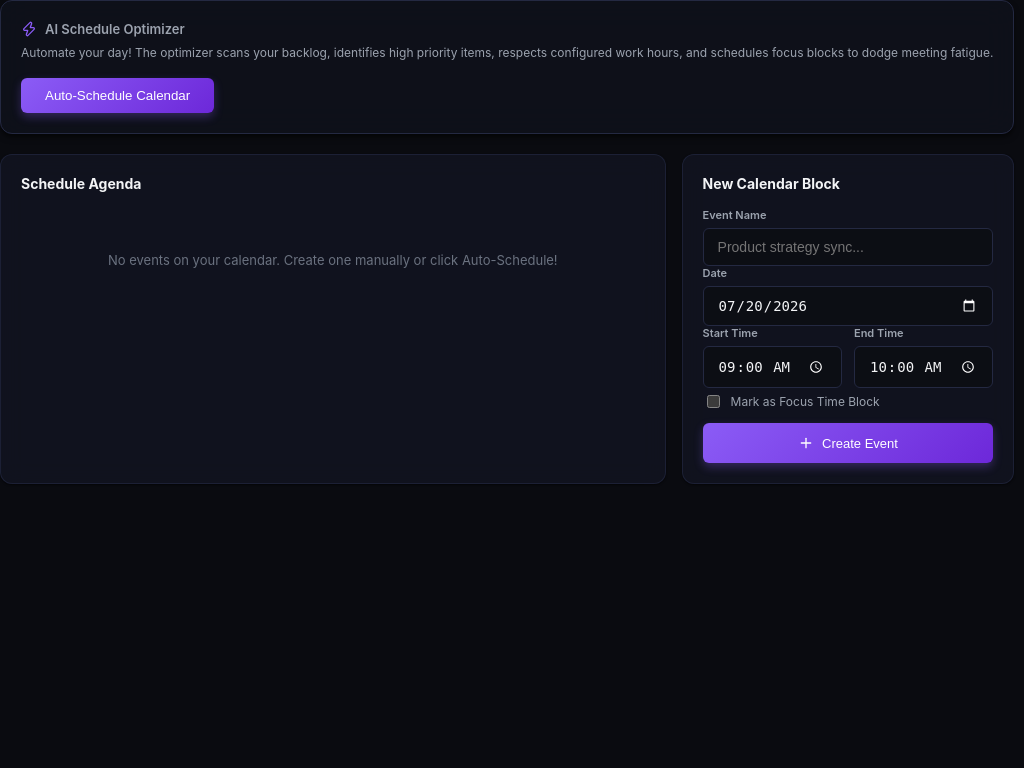
Test: CalendarView › runs AI auto-scheduler successfully and renders execution report
Trigger auto-schedule
Click the button "Auto-Schedule Calendar": (118, 95) [21, 78, 214, 113]
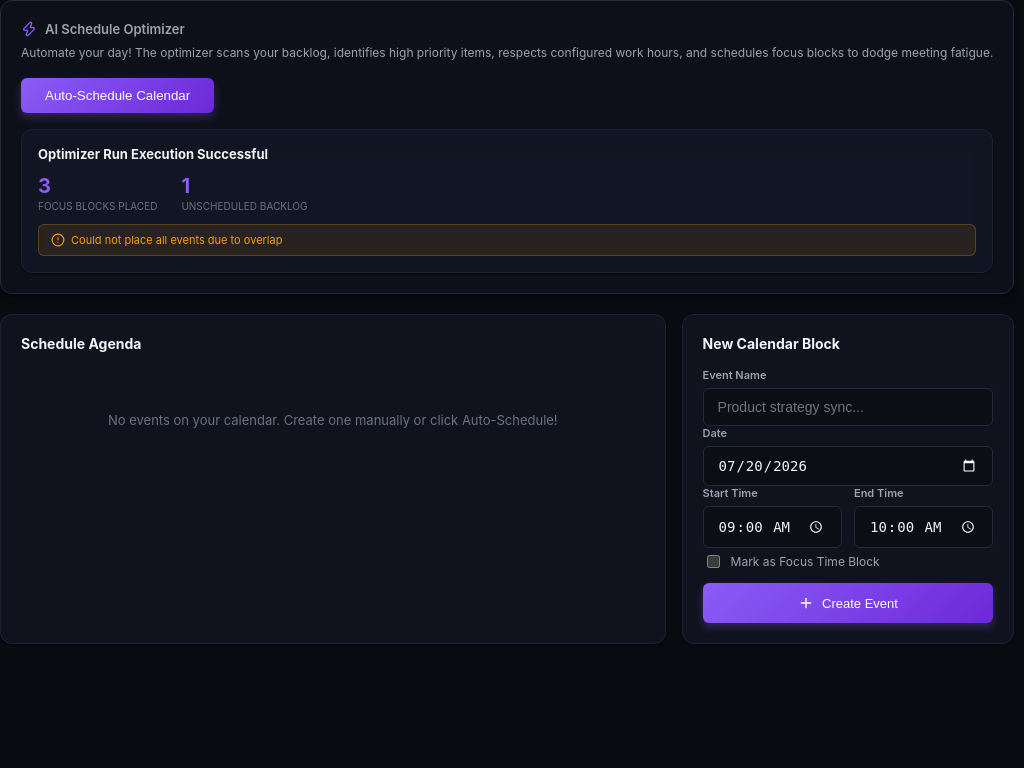
Result: the heading "Optimizer Run Execution Successful" is shown at [38, 146, 268, 162]
Result: the text "3" is shown at [38, 174, 51, 198]
Result: the text "Could not place all events due to overlap" is shown at [71, 233, 282, 247]
